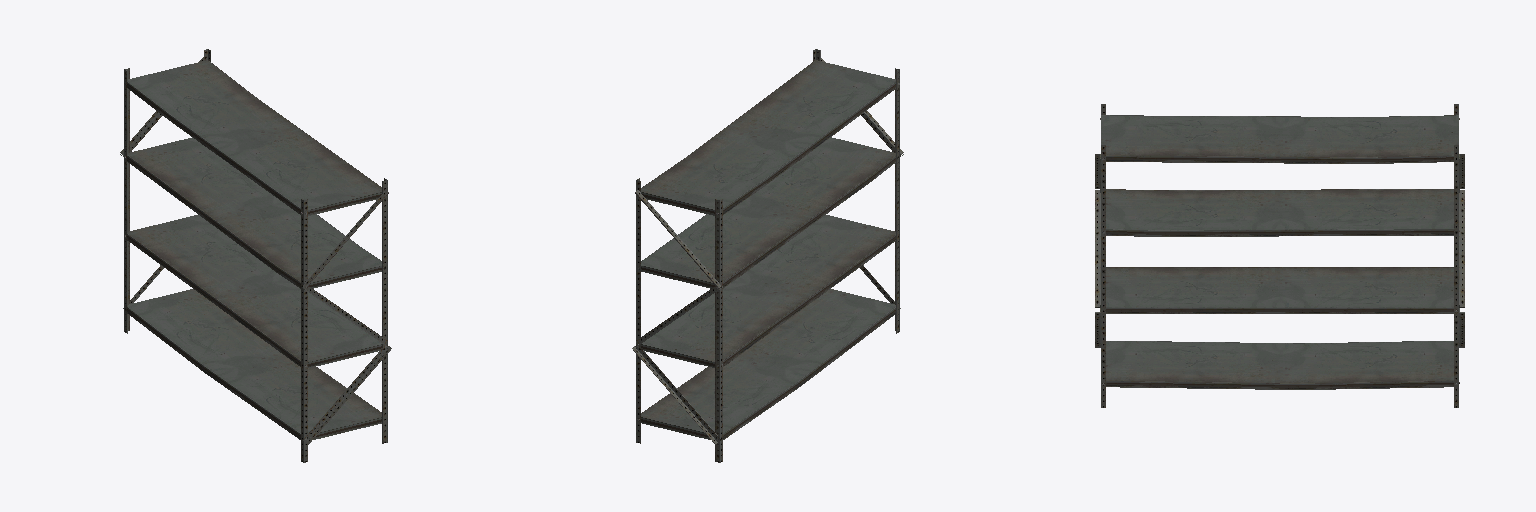
3 views of the same model, side by side, from view 1: azimuth 30°, elevation 25°; view 2: azimuth 150°, elevation 25°; view 3: azimuth 270°, elevation 25° (orthographic).
Parts seen in each view (by area): view 1: COM_Deco_IndecoA_SteelShelf01_SM01; view 2: COM_Deco_IndecoA_SteelShelf01_SM01; view 3: COM_Deco_IndecoA_SteelShelf01_SM01.
Part boxes in pixels (x1,y1,x2,y2): COM_Deco_IndecoA_SteelShelf01_SM01: (120,49,391,462); COM_Deco_IndecoA_SteelShelf01_SM01: (632,49,903,462); COM_Deco_IndecoA_SteelShelf01_SM01: (1095,104,1464,407).
Size of the model in its own units: 0.5083 by 1.46 by 1.86.
1 materials, 1 textured.